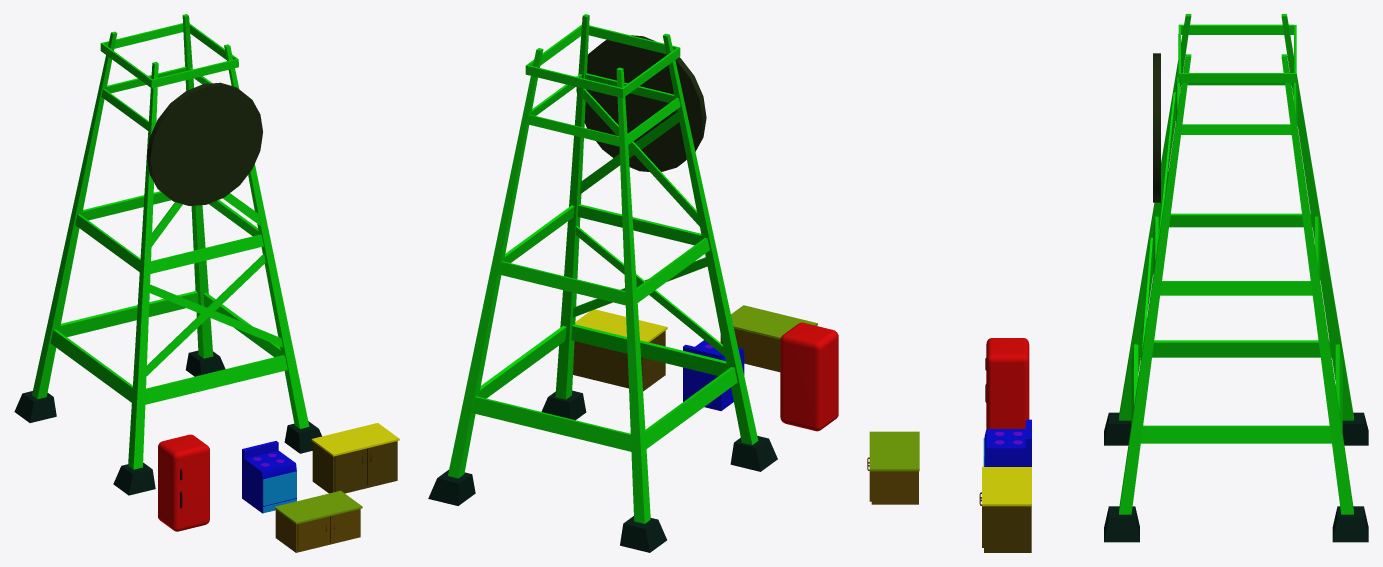
Rendered from UVTwo.fbx.
3 renders of one model, left to right at view 1: azimuth 30°, elevation 25°; view 2: azimuth 150°, elevation 25°; view 3: azimuth 270°, elevation 25°, orthographic. The views are drawn at different scales.
Parts seen in each view (by area): view 1: BombTower_Cross, Countertop1_Top, Fridge, Cabinet1_top, Stove1_bottom; view 2: BombTower_Cross, Fridge, Countertop1_Top, Cabinet1_top, Stove1_bottom; view 3: BombTower_Cross, Countertop1_Top, Fridge, Cabinet1_top, Stove1_bottom.
Boxes of the visible parts, <box> form: BombTower_Cross: <box>14,14,321,495</box>; Countertop1_Top: <box>311,423,399,493</box>; Fridge: <box>158,434,209,531</box>; Cabinet1_top: <box>274,490,362,552</box>; Stove1_bottom: <box>242,441,296,513</box>; BombTower_Cross: <box>428,14,777,552</box>; Fridge: <box>780,322,838,431</box>; Countertop1_Top: <box>573,309,667,391</box>; Cabinet1_top: <box>720,305,817,372</box>; Stove1_bottom: <box>683,340,744,410</box>; BombTower_Cross: <box>1104,14,1368,542</box>; Countertop1_Top: <box>979,467,1031,552</box>; Fridge: <box>985,338,1029,428</box>; Cabinet1_top: <box>867,431,919,504</box>; Stove1_bottom: <box>983,419,1031,466</box>.
Size of the model in its own units: 5.21 by 8.71 by 8.77.
